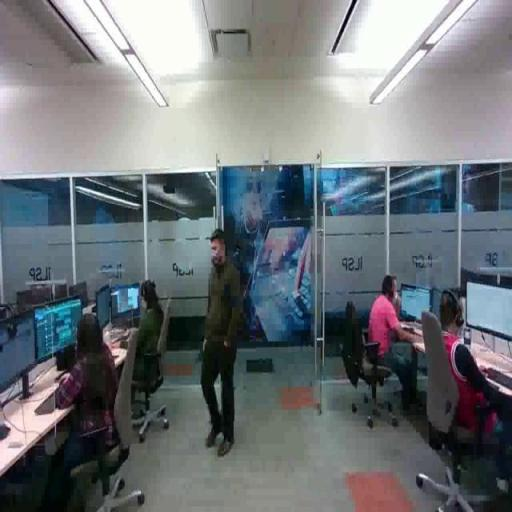person: (36, 311, 131, 489), (437, 286, 512, 493), (198, 227, 241, 459), (366, 276, 425, 413), (124, 277, 169, 421)
